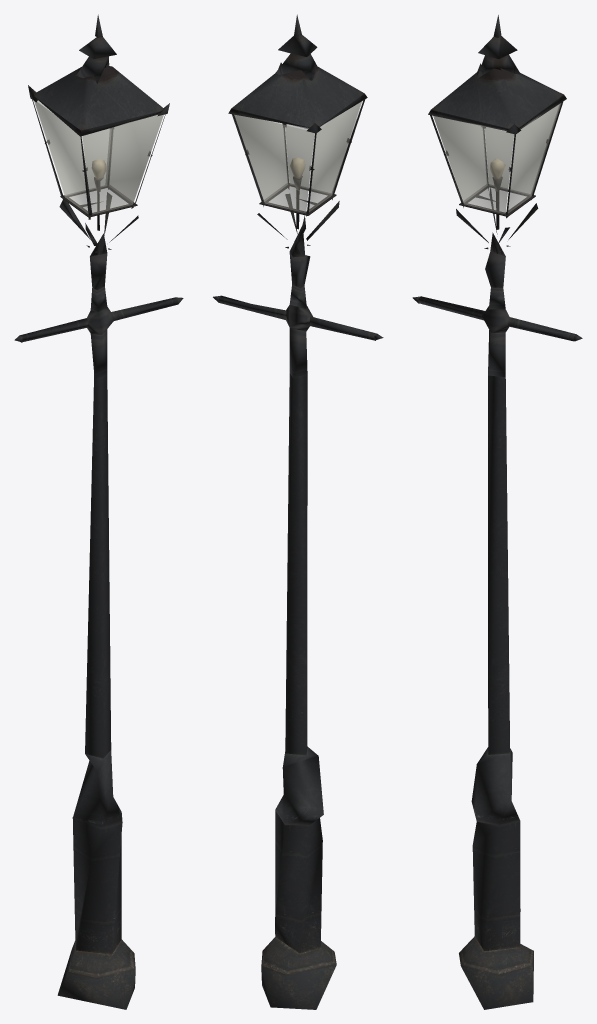
The model's file is StreetLamp_LOD2.obj.
3 views of the same model, side by side, from view 1: azimuth 30°, elevation 25°; view 2: azimuth 150°, elevation 25°; view 3: azimuth 330°, elevation 25° (orthographic).
Parts seen in each view (by area): view 1: street_lamp_01_16ad29, street_lamp_01_2c61c8; view 2: street_lamp_01_16ad29, street_lamp_01_2c61c8; view 3: street_lamp_01_16ad29, street_lamp_01_2c61c8.
Part boxes in pixels (left/top/right/bottom): street_lamp_01_16ad29: left=14, top=14, right=183, bottom=1009; street_lamp_01_2c61c8: left=34, top=100, right=163, bottom=214; street_lamp_01_16ad29: left=213, top=14, right=383, bottom=1009; street_lamp_01_2c61c8: left=234, top=101, right=361, bottom=213; street_lamp_01_16ad29: left=412, top=15, right=582, bottom=1009; street_lamp_01_2c61c8: left=433, top=103, right=561, bottom=213.
Size of the model in its own units: 0.7032 by 3.87 by 0.3862.
Materials: 3 (1 with a texture image).
